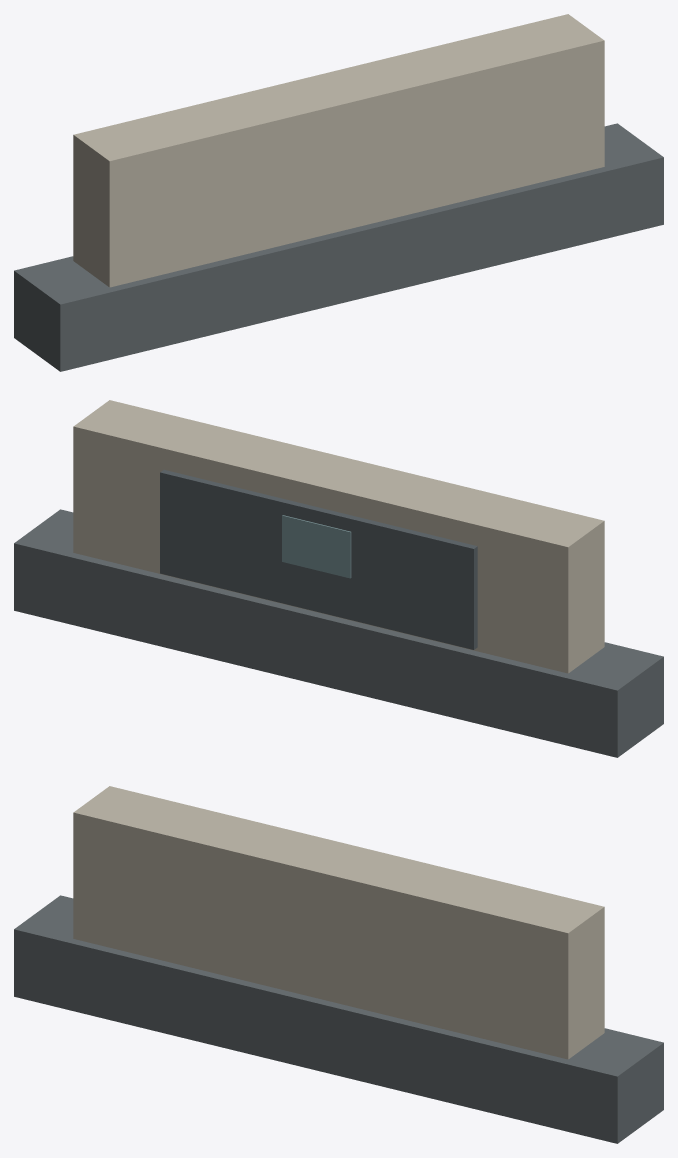
The model's file is iz3_military_barrier_01.glb.
The picture shows the model from 3 angles, top to bottom: view 1: azimuth 30°, elevation 25°; view 2: azimuth 150°, elevation 25°; view 3: azimuth 330°, elevation 25°; orthographic projection.
Parts seen in each view (by area): view 1: cabinet, base; view 2: cabinet, base, panel, display; view 3: cabinet, base.
Part boxes in pixels (<box>): cabinet: <box>73,14,604,287</box>; base: <box>14,123,663,371</box>; cabinet: <box>73,400,604,673</box>; base: <box>14,509,663,757</box>; panel: <box>160,469,477,649</box>; display: <box>282,515,351,578</box>; cabinet: <box>73,786,604,1059</box>; base: <box>14,895,663,1143</box>.
Size of the model in its own units: 3 by 0.92 by 0.4.
